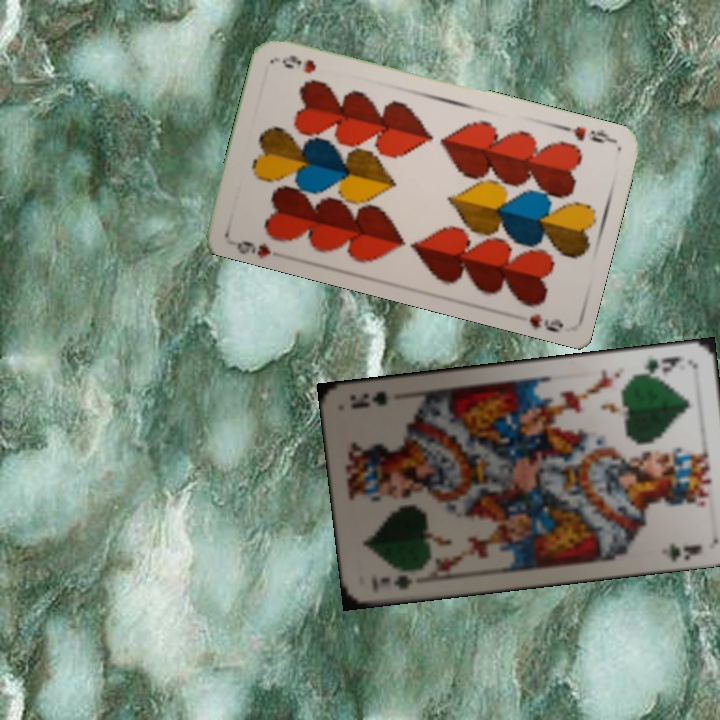GK: (633, 352, 684, 379), (376, 570, 415, 593)
H9: (557, 121, 616, 146), (232, 236, 273, 259)
